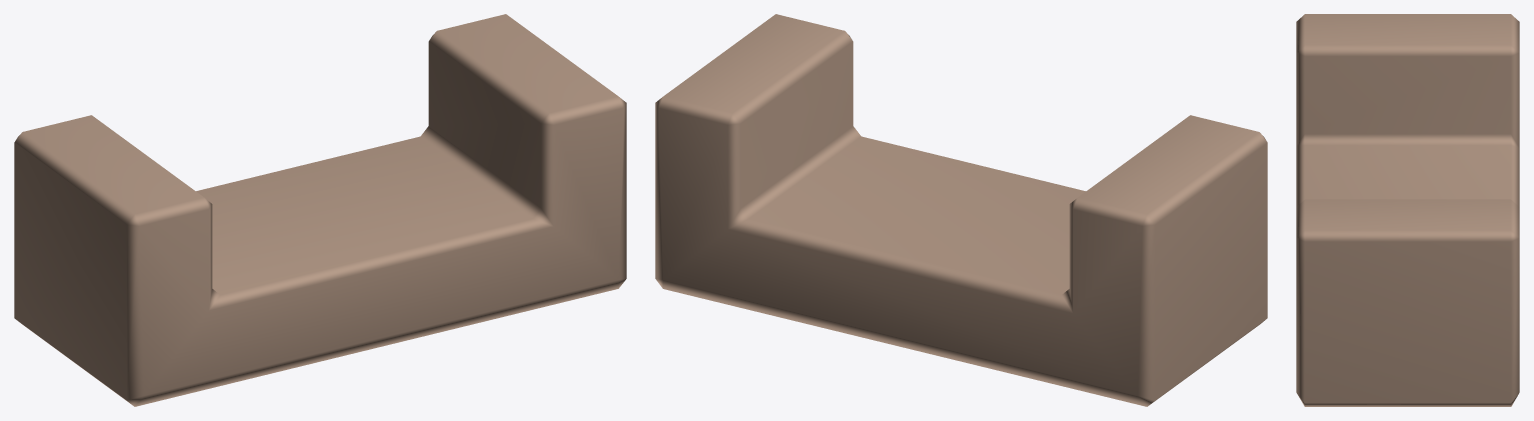
The model's file is Shelf_10.glb.
The picture shows the model from 3 angles, left to right: view 1: azimuth 30°, elevation 25°; view 2: azimuth 150°, elevation 25°; view 3: azimuth 270°, elevation 25°; orthographic projection. The views are drawn at different scales.
Parts seen in each view (by area): view 1: Shelf_10; view 2: Shelf_10; view 3: Shelf_10.
Boxes of the visible parts, <box> form: Shelf_10: <box>14,14,626,406</box>; Shelf_10: <box>655,14,1267,406</box>; Shelf_10: <box>1296,14,1519,406</box>.
Bounding box in the file's own units: 0.877 × 0.3228 × 0.3702.
Materials: 1 (1 with a texture image).
